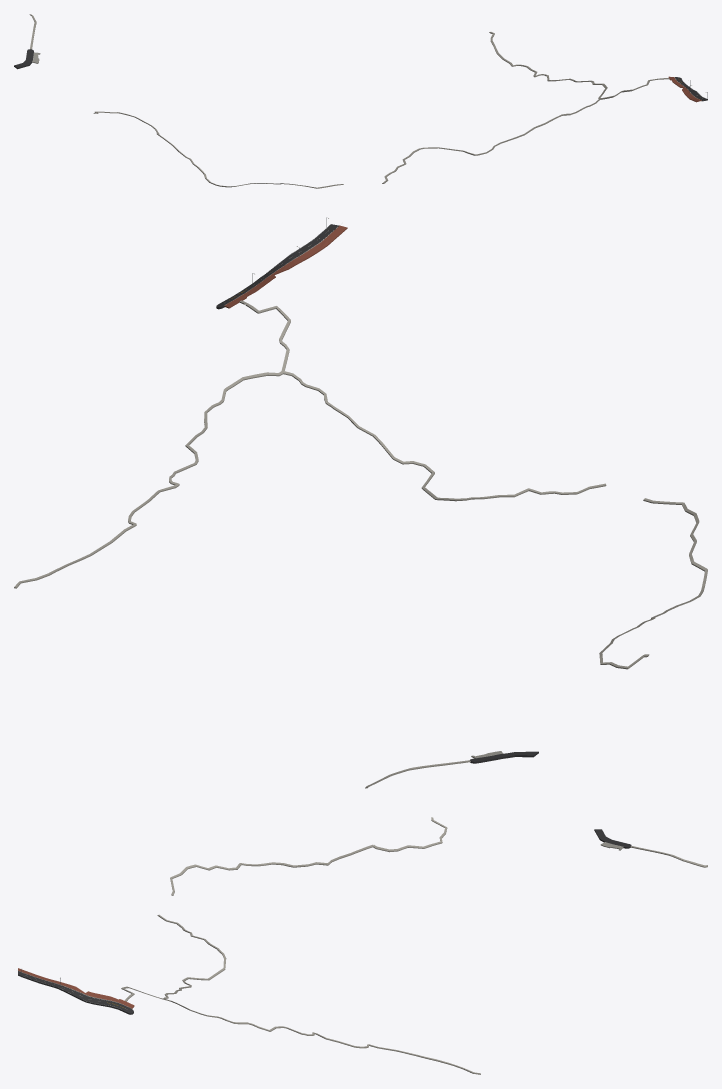
File: 16-54723-29724.4a2a3ebe.glb
The picture shows the model from 3 angles, top to bottom: view 1: azimuth 30°, elevation 25°; view 2: azimuth 150°, elevation 25°; view 3: azimuth 270°, elevation 25°; orthographic projection. The views are drawn at different scales.
Bounding box in the file's own units: 458 × 98.3 × 586.
